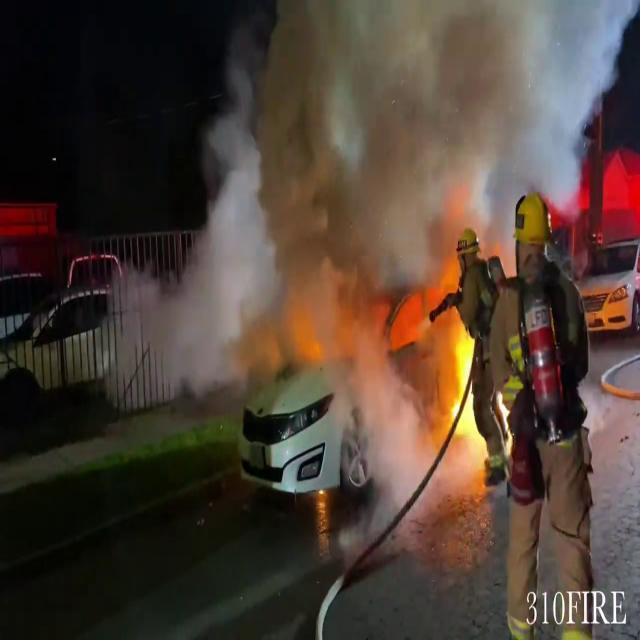Smoke: (190, 0, 554, 262)
